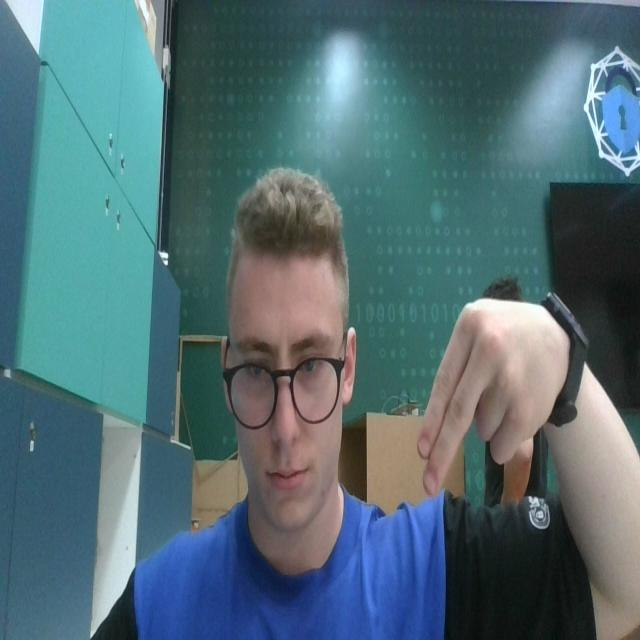N: (409, 290, 546, 500)
